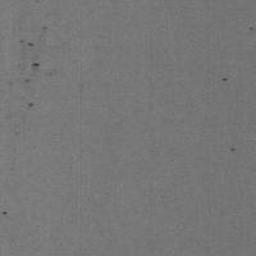Inclusion: (6, 24, 56, 109), (1, 210, 9, 218), (248, 26, 256, 33), (221, 76, 229, 82)
